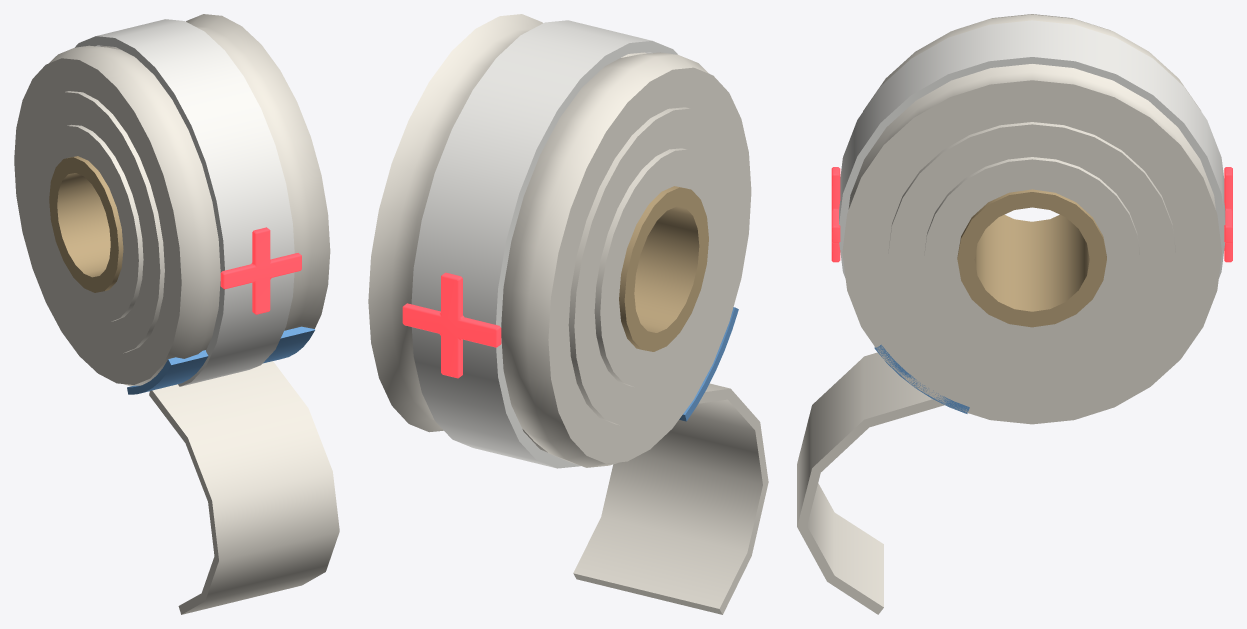
Rendered from bandage.glb.
3 renders of one model, left to right at view 1: azimuth 30°, elevation 25°; view 2: azimuth 150°, elevation 25°; view 3: azimuth 270°, elevation 25°, orthographic. The views are drawn at different scales.
Parts seen in each view (by area): view 1: gauze, gauze_tail, band, core, cross, tape; view 2: gauze, band, gauze_tail, core, cross, tape; view 3: gauze, band, core, gauze_tail, cross, tape.
Boxes of the visible parts, box(x1,y1,x2,y2) form: gauze: box(14, 14, 330, 386); gauze_tail: box(149, 361, 339, 614); band: box(75, 19, 294, 386); core: box(49, 156, 123, 292); cross: box(220, 227, 301, 314); tape: box(127, 326, 314, 394); gauze: box(368, 14, 751, 467); band: box(411, 20, 677, 468); gauze_tail: box(573, 383, 768, 614); core: box(619, 186, 708, 351); cross: box(402, 272, 501, 378); tape: box(679, 307, 738, 421); gauze: box(842, 14, 1221, 424); band: box(839, 20, 1225, 278); core: box(957, 189, 1106, 327); gauze_tail: box(797, 352, 944, 614); cross: box(831, 167, 1232, 262); tape: box(874, 344, 969, 413).
Size of the model in its own units: 0.148 by 0.4178 by 0.303.
